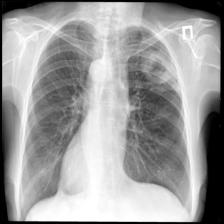tuberculosis: (16, 15, 200, 224)
